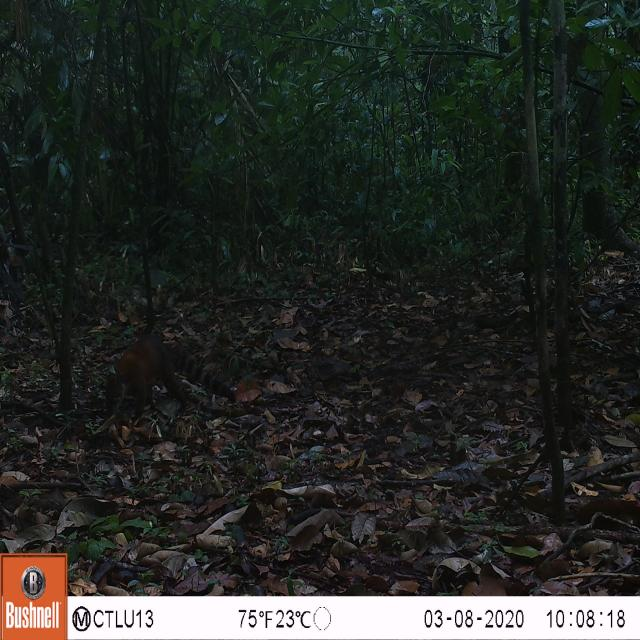South American Coati: (95, 322, 242, 433)
